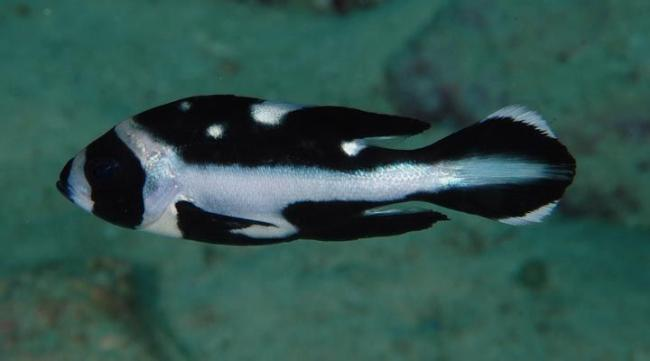fish: (55, 94, 578, 248)
